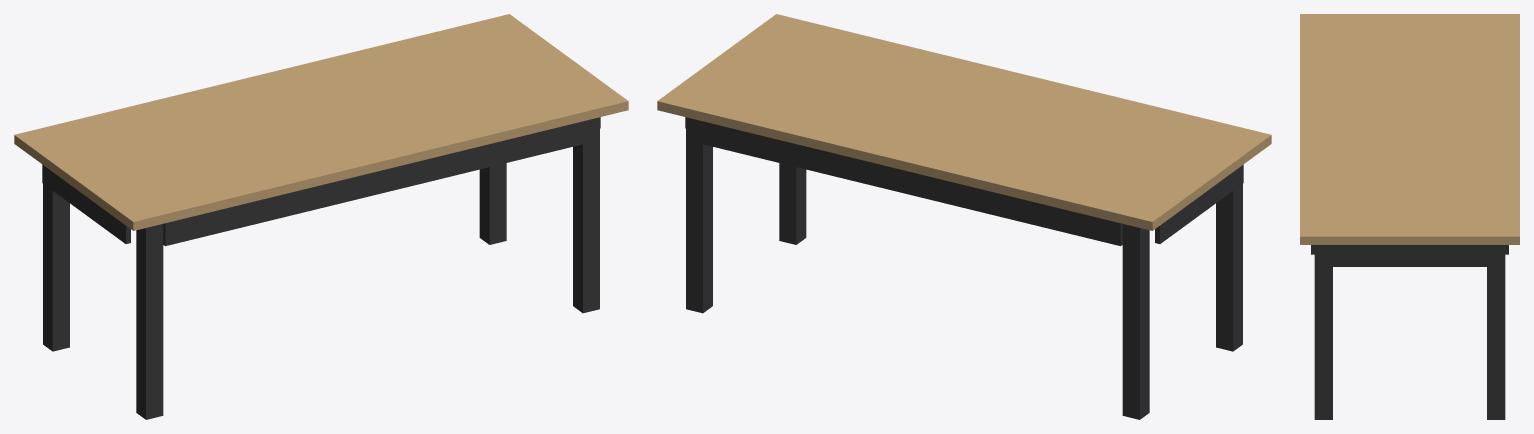
The model's file is demo-003-executive-desk.glb.
3 renders of one model, left to right at view 1: azimuth 30°, elevation 25°; view 2: azimuth 150°, elevation 25°; view 3: azimuth 270°, elevation 25°, orthographic. The views are drawn at different scales.
Visible parts, largest first — view 1: Executive desk; view 2: Executive desk; view 3: Executive desk.
Boxes of the visible parts, x1=… form: Executive desk: x1=14, y1=14, x2=628, y2=419; Executive desk: x1=657, y1=14, x2=1271, y2=419; Executive desk: x1=1300, y1=14, x2=1519, y2=419.
Size of the model in its own units: 1.83 by 0.7366 by 0.762.
